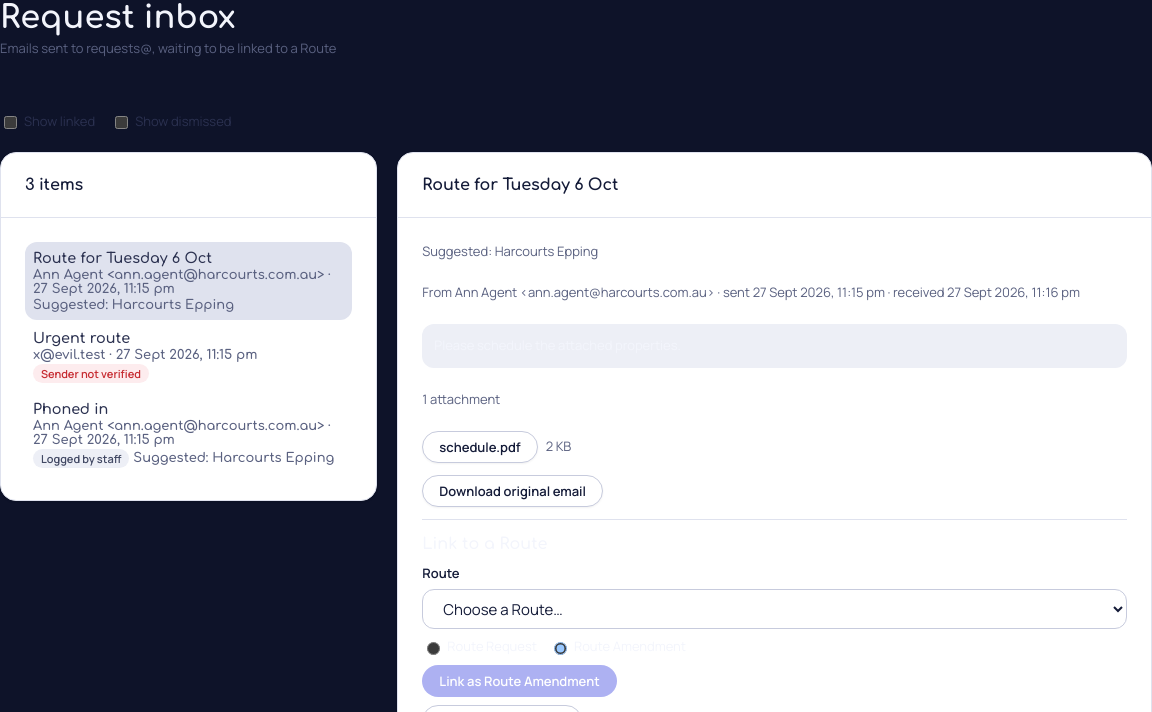
Scenario: AdministratorRouteRequestsPage › shows dismissed emails, with their reason, when asked
Expected: the heading "3 items" is shown, [25, 173, 83, 197]
Click the checkbox labelled "Show dismissed".
click(122, 122)  # box [115, 116, 128, 129]
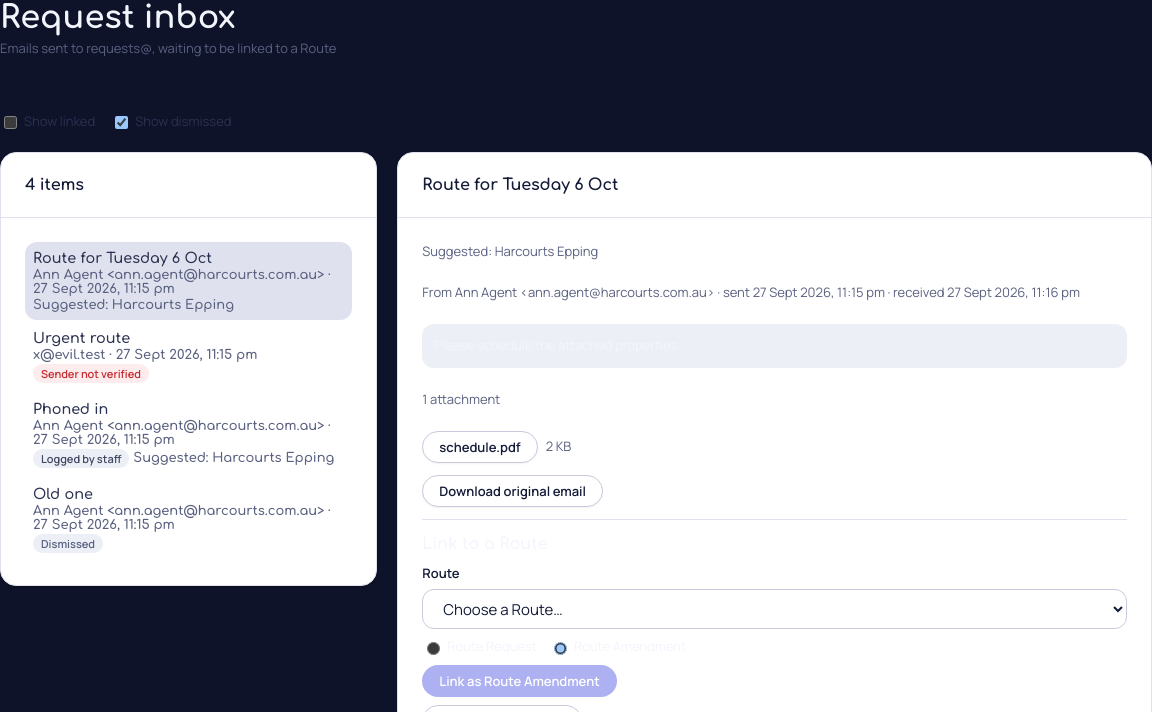
Click the button "Old one".
click(189, 519)  # box [25, 478, 352, 561]
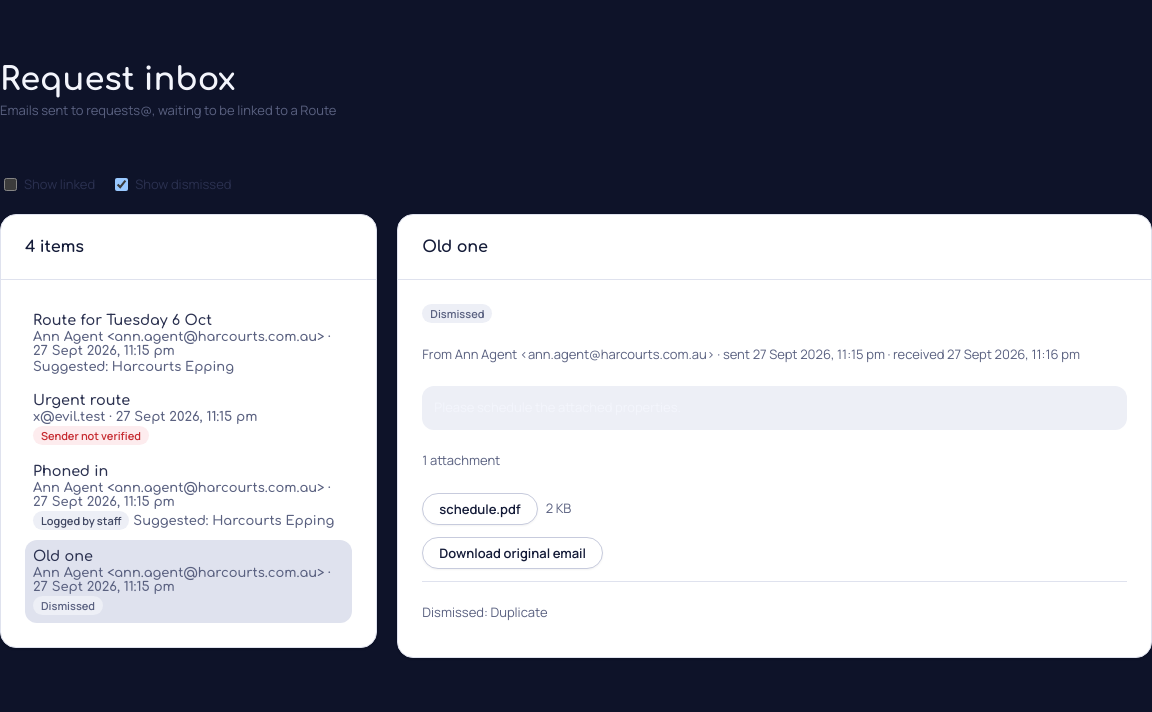
Expected: the heading "4 items" is shown, [25, 235, 84, 259]
Expected: the text "Dismissed: Duplicate" is shown, [422, 604, 548, 622]
